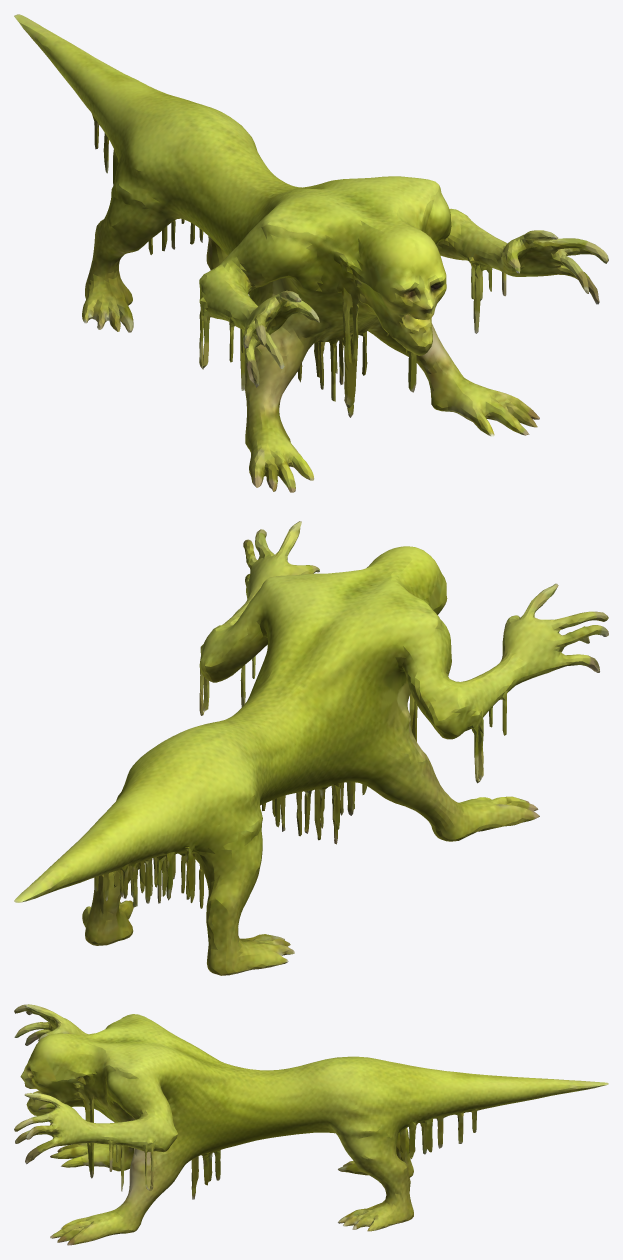
The model's file is cemetery_zombie.glb.
3 renders of one model, top to bottom at view 1: azimuth 30°, elevation 25°; view 2: azimuth 150°, elevation 25°; view 3: azimuth 270°, elevation 25°, orthographic. The views are drawn at different scales.
Parts seen in each view (by area): view 1: cemetery_zombie; view 2: cemetery_zombie; view 3: cemetery_zombie.
Boxes of the visible parts, <box> form: cemetery_zombie: <box>14,14,608,492</box>; cemetery_zombie: <box>14,521,608,975</box>; cemetery_zombie: <box>14,1004,608,1245</box>.
Size of the model in its own units: 0.9442 by 0.5678 by 1.89.
Materials: 1 (1 with a texture image).
